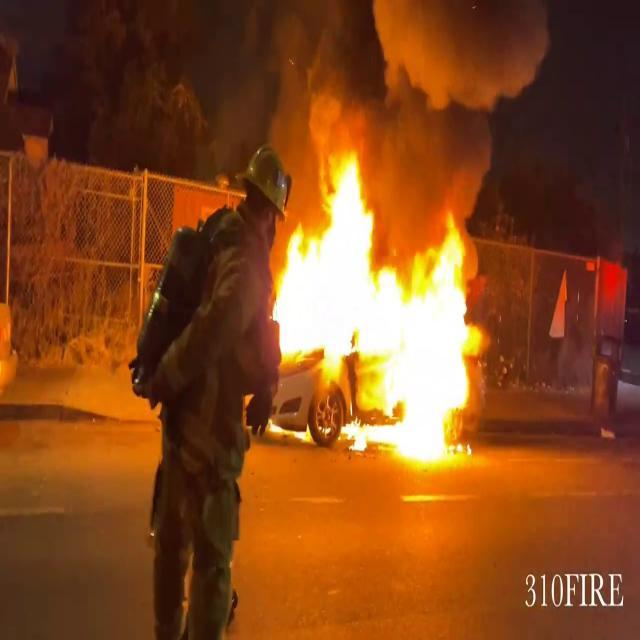Fire: (262, 142, 496, 468)
Smoke: (281, 0, 573, 218)
